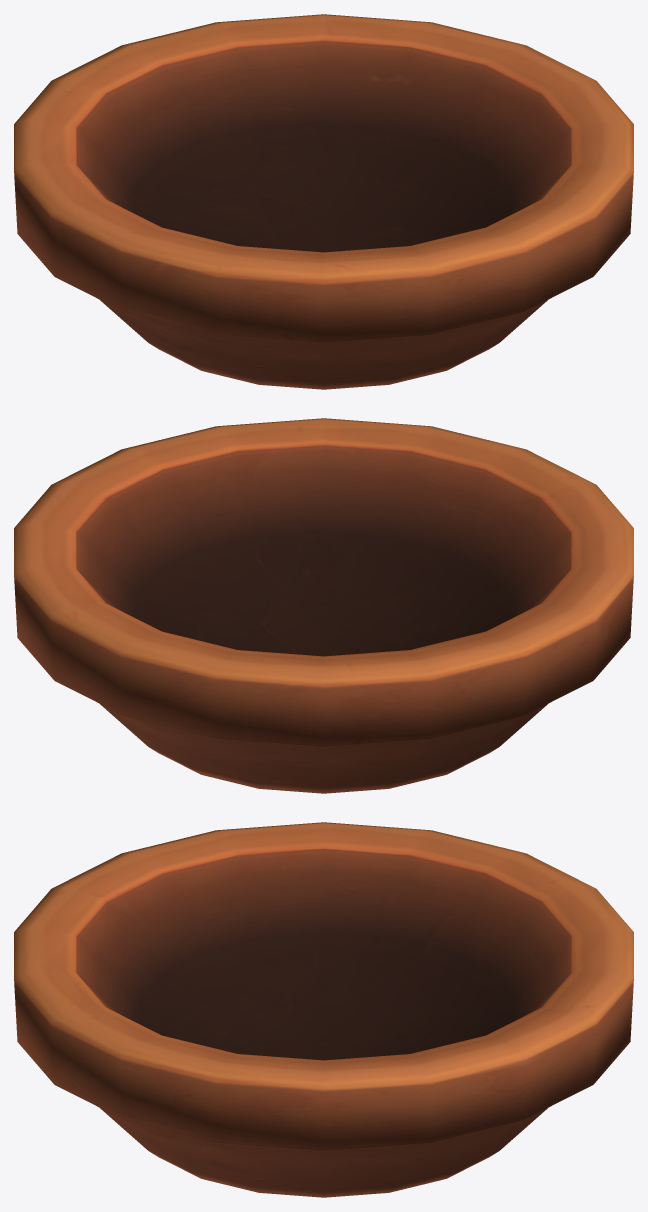
Rendered from SE_Pot_01c.fbx.
The picture shows the model from 3 angles, top to bottom: view 1: azimuth 30°, elevation 25°; view 2: azimuth 150°, elevation 25°; view 3: azimuth 270°, elevation 25°; orthographic projection.
Visible parts, largest first — view 1: SE_Pot_01c; view 2: SE_Pot_01c; view 3: SE_Pot_01c.
Boxes of the visible parts, x1,y1,x2,y2 form: SE_Pot_01c: (14, 14, 633, 389); SE_Pot_01c: (14, 418, 633, 793); SE_Pot_01c: (14, 822, 633, 1197).
Size of the model in its own units: 1.77 by 0.5212 by 1.74.
